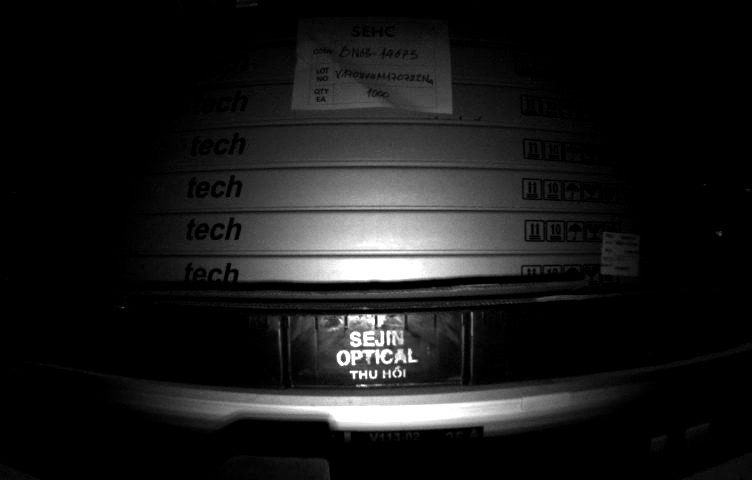True Barcode: (600, 231, 645, 283)
